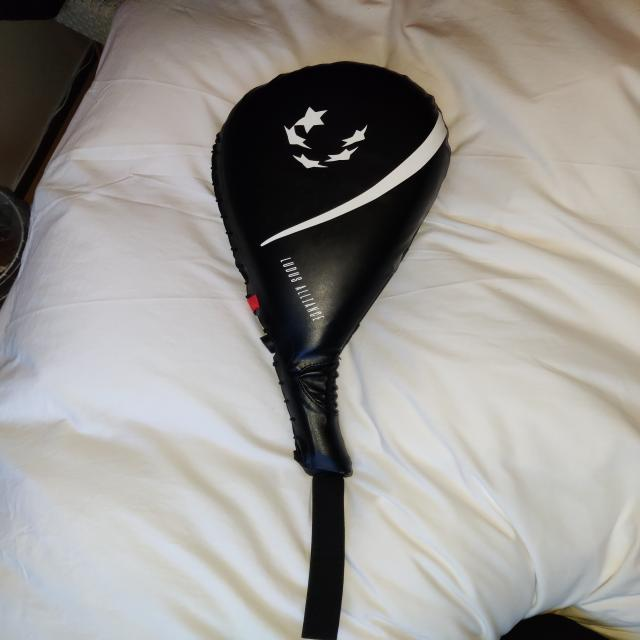paddle: (207, 58, 455, 479)
